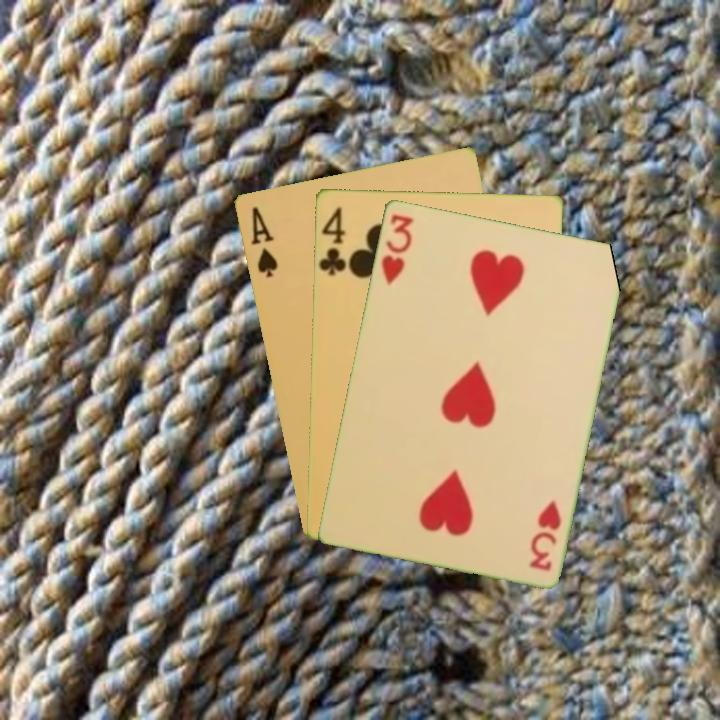3h: (377, 210, 416, 288), (525, 496, 564, 574)
4c: (316, 202, 349, 277)
As: (246, 202, 280, 280)
